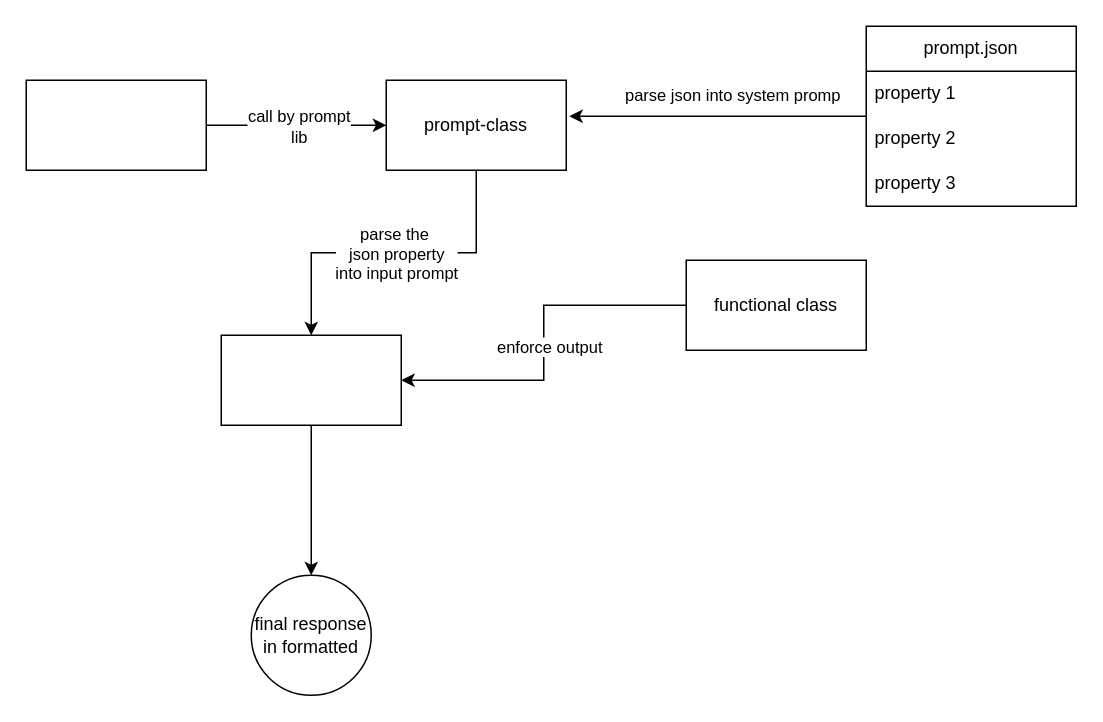
Image size: 1103x722. Some labels were removed from this diagram. The box of each missing label's shape, as (x1, y1, x2, y2) in pixels:
Connector: (25, 79, 206, 170)
entry point (main): (220, 334, 401, 425)
